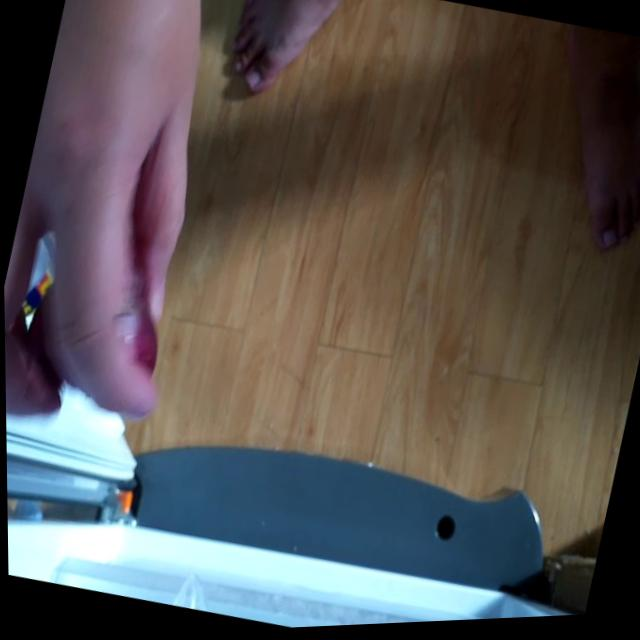onion: (28, 245, 191, 397)
